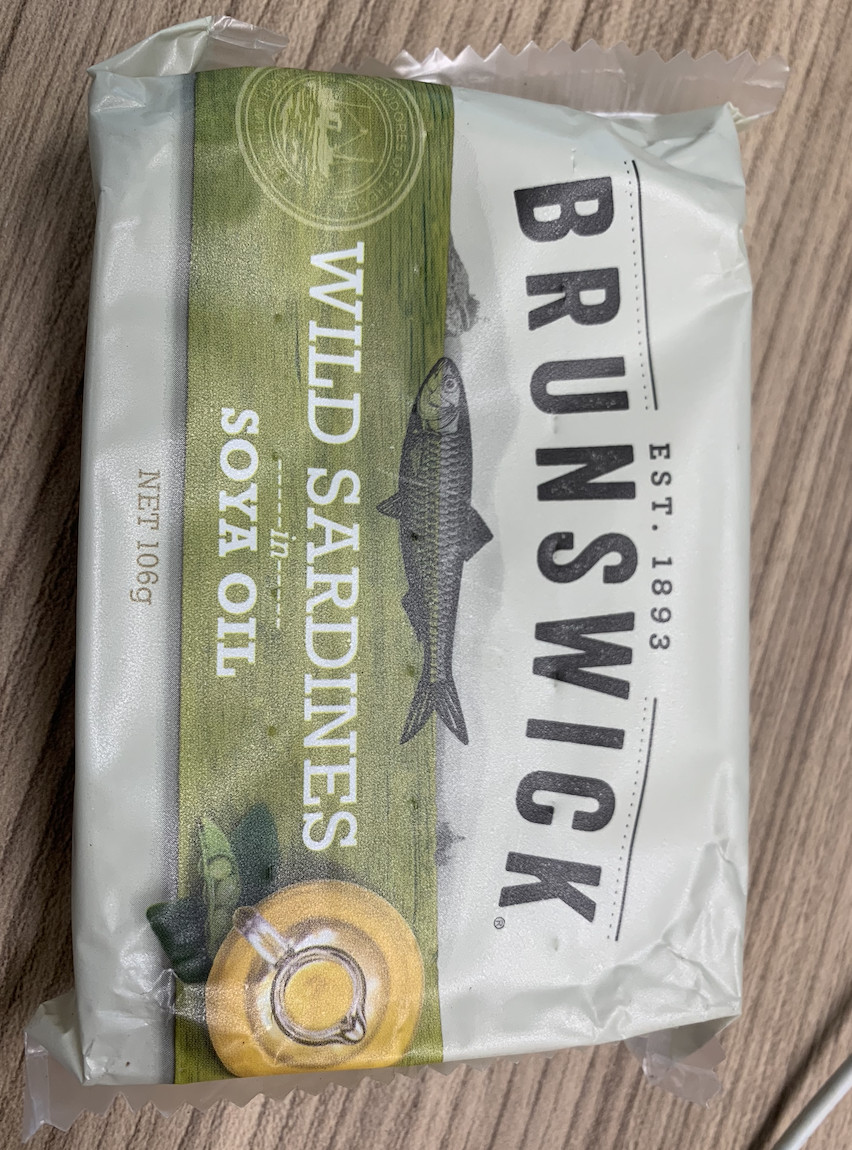sardines_100g-199g: (99, 76, 726, 1039)
